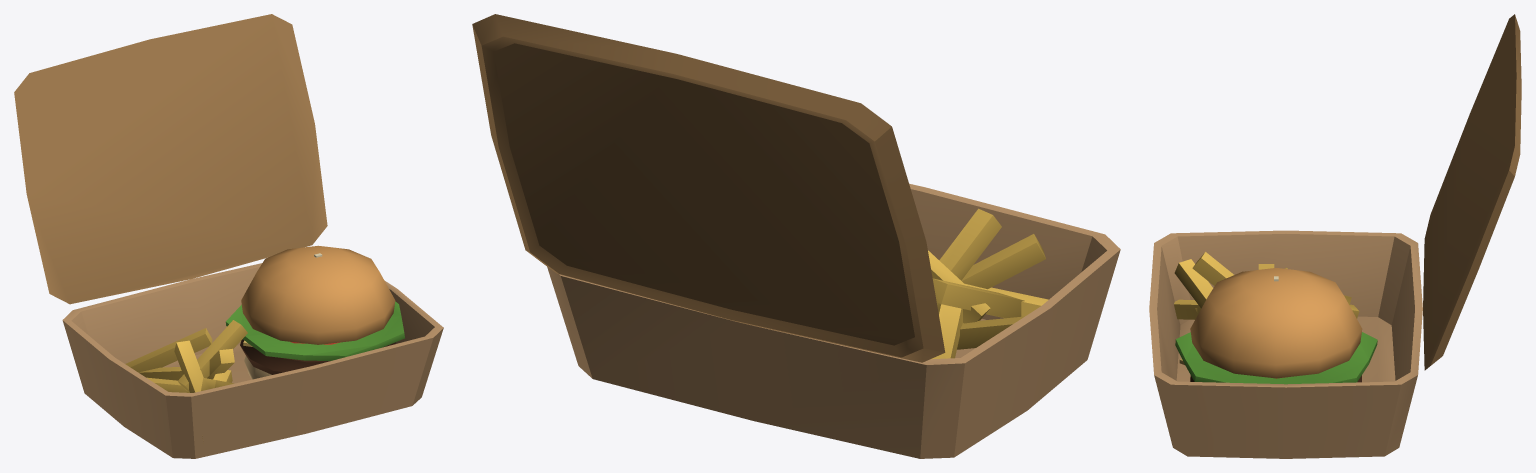
File: takeout.glb
3 views of the same model, side by side, from view 1: azimuth 30°, elevation 25°; view 2: azimuth 150°, elevation 25°; view 3: azimuth 270°, elevation 25° (orthographic). The views are drawn at different scales.
Parts seen in each view (by area): view 1: takeout; view 2: takeout; view 3: takeout.
Part boxes in pixels (x1,y1,x2,y2): takeout: [14, 14, 443, 458]; takeout: [472, 14, 1120, 458]; takeout: [1149, 14, 1521, 458].
Bounding box in the file's own units: 0.19 × 0.1766 × 0.1905.
